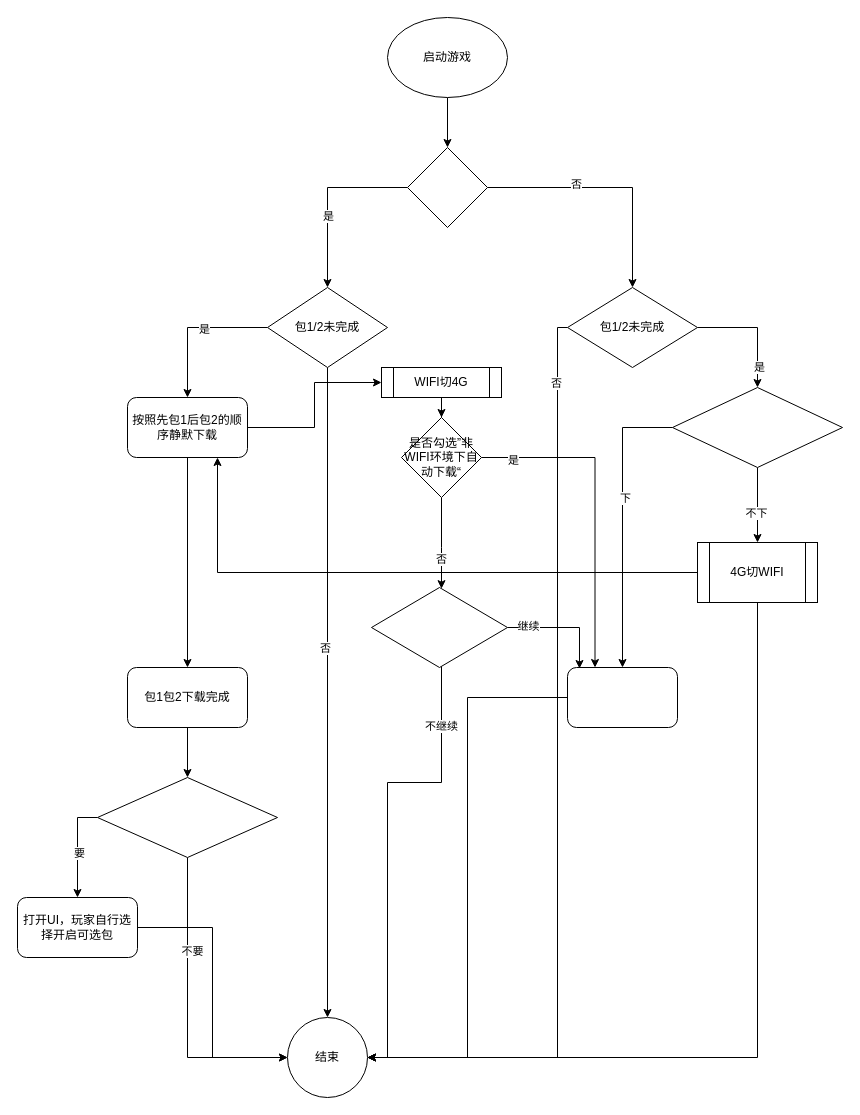
This 860x1115 diagram has some shape labels left out. The centre of each missing label's shape, as x and y in pixels:
4G啦，少侠继续下载吗？: point 439,627
WIFI环境: point 447,187
少侠仍有核心包未下载，影响体验，当前非WIFI环境，继续下载吗？: point 757,427
还有可选包，少侠要下载吗？: point 187,817
静默开启包1包2下载，无需打开UI: point 622,697
